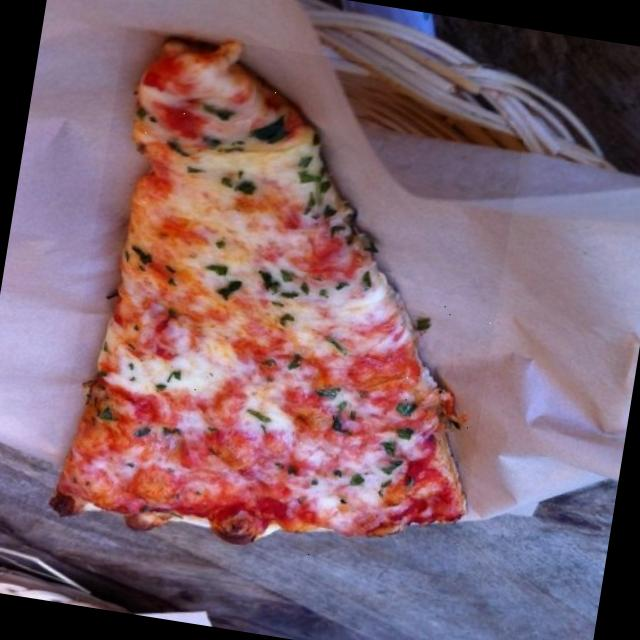basil: (252, 264, 312, 298), (218, 163, 262, 200), (252, 112, 290, 148), (162, 130, 200, 162), (216, 270, 248, 308), (331, 394, 356, 436), (204, 255, 240, 280), (126, 238, 152, 270), (321, 333, 352, 357), (302, 187, 321, 220), (314, 379, 341, 402), (96, 400, 118, 428), (390, 427, 416, 448), (395, 400, 422, 420), (170, 362, 190, 386), (158, 424, 188, 439), (296, 170, 321, 188), (276, 310, 297, 330), (348, 472, 369, 492), (165, 306, 186, 325), (131, 425, 154, 442), (319, 204, 337, 220), (287, 355, 301, 374), (327, 224, 343, 238)
cheese: (117, 122, 351, 424), (146, 51, 259, 132), (302, 261, 394, 356), (284, 428, 390, 508)
pizza: (51, 40, 465, 544)
